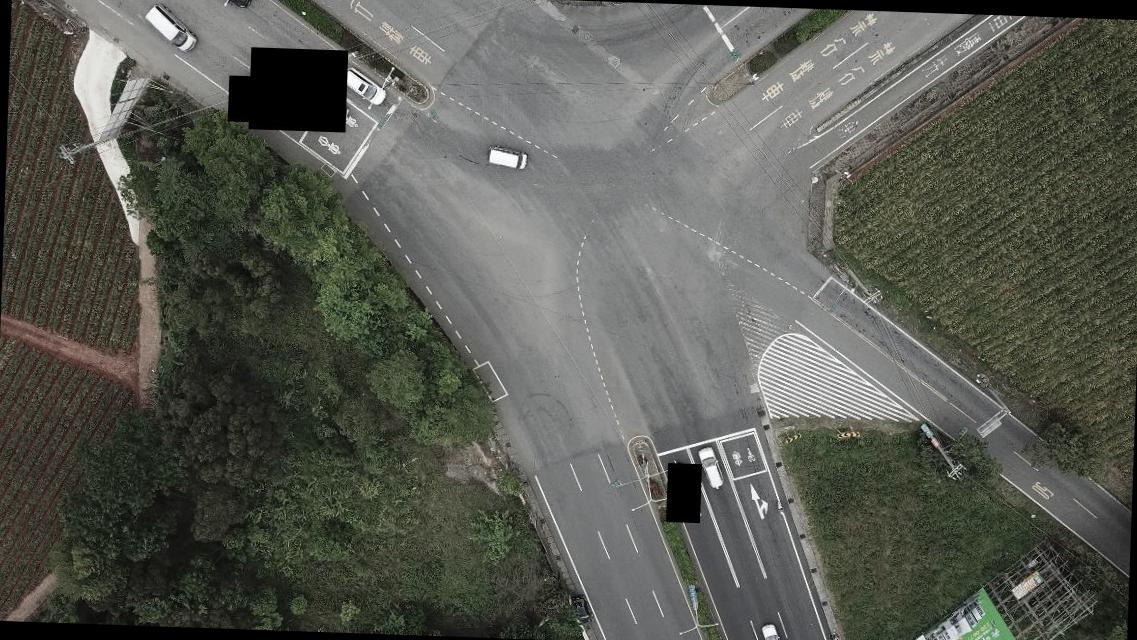vehicle: (143, 4, 198, 54), (340, 66, 386, 106), (698, 446, 724, 489), (486, 146, 529, 168), (568, 595, 594, 626), (210, 0, 251, 11), (758, 622, 781, 639)
